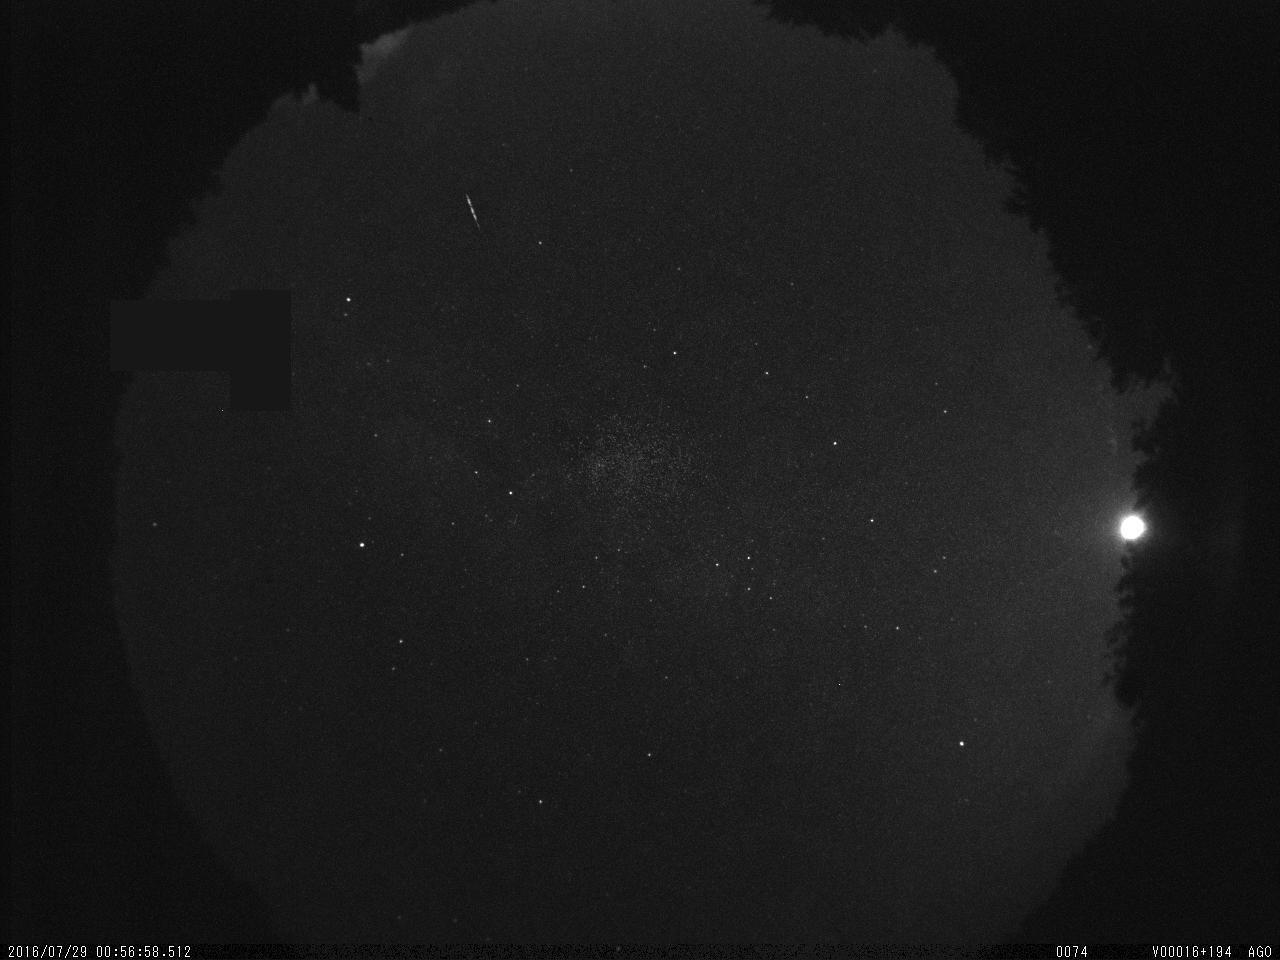meteor: (434, 164, 508, 250)
